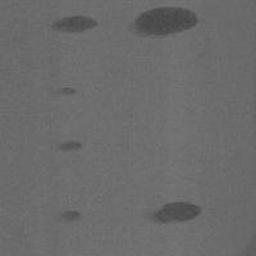Oil spot: (127, 4, 201, 40), (140, 200, 204, 225), (49, 14, 100, 35), (54, 137, 83, 152), (56, 207, 83, 223), (54, 86, 78, 96)
